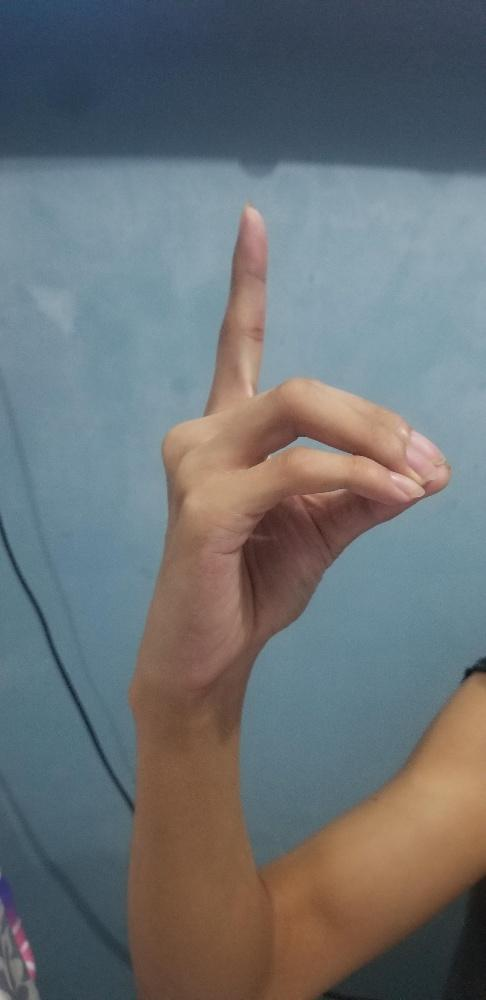d: (126, 195, 453, 699)
